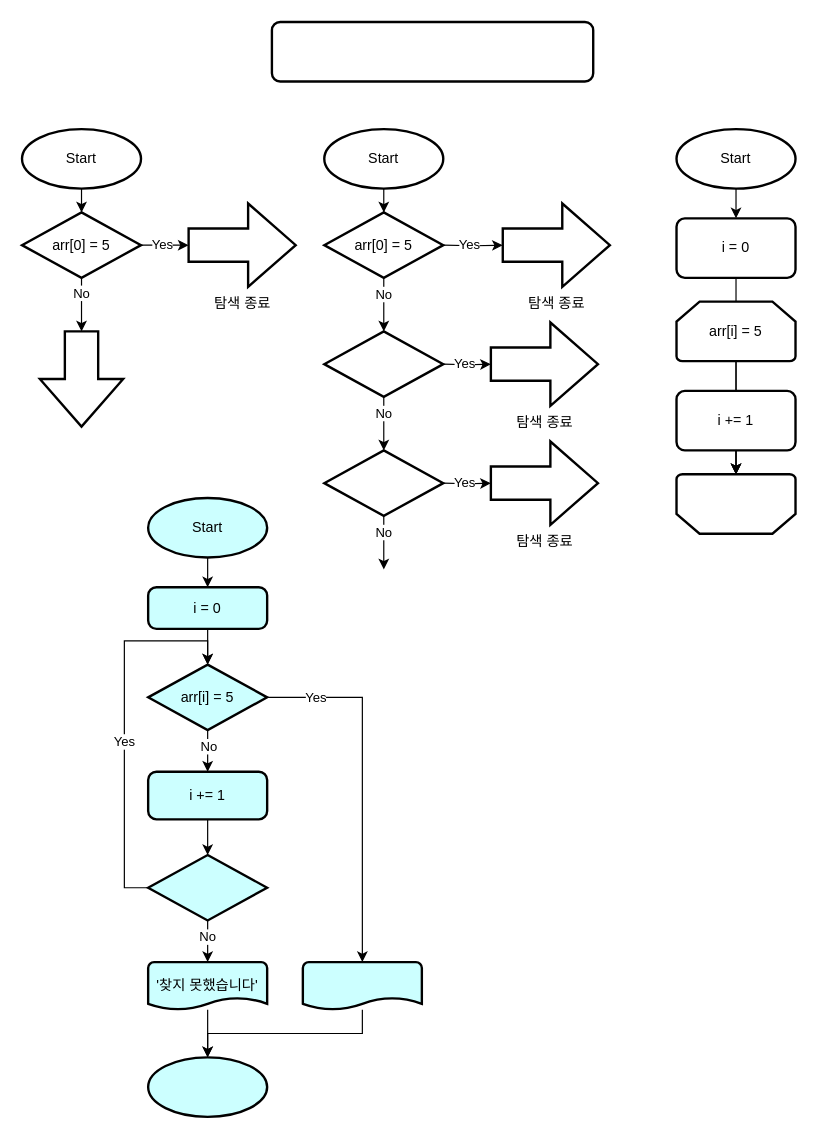
This 816x1138 diagram has some shape labels left out. The shapes that lost their labels are listed below. From the top down, each one's box as (x1, y1, x2, y2) in pixels, then its label:
(270, 20, 594, 82): 선형 탐색법
(38, 330, 124, 427): 다음진행
(322, 330, 444, 397): arr[1] = 5
(322, 449, 444, 516): arr[2] = 5
(146, 853, 268, 921): i < len(arr)
(301, 960, 422, 1010): 'i번째 요소가 일치'
(146, 1056, 268, 1117): End
